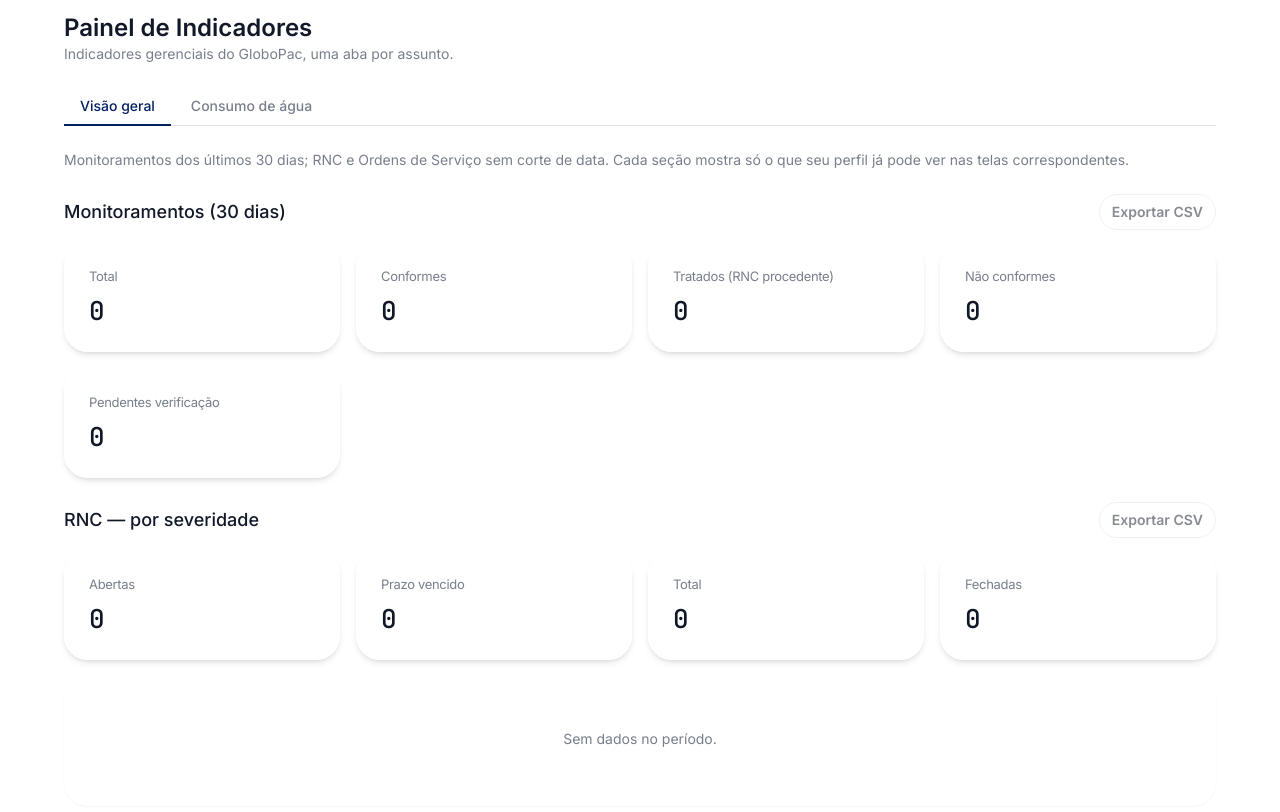
Test: Painel de Indicadores — abas › Administrador vê a aba Consumo de água e abre o conteúdo dela
Check: the heading "Painel de Indicadores" is shown, box [64, 13, 312, 42]
Check: the heading "Monitoramentos (30 dias)" is shown, box [64, 198, 286, 226]
Click the tab "Consumo de água" at (252, 107), box [175, 88, 328, 126]
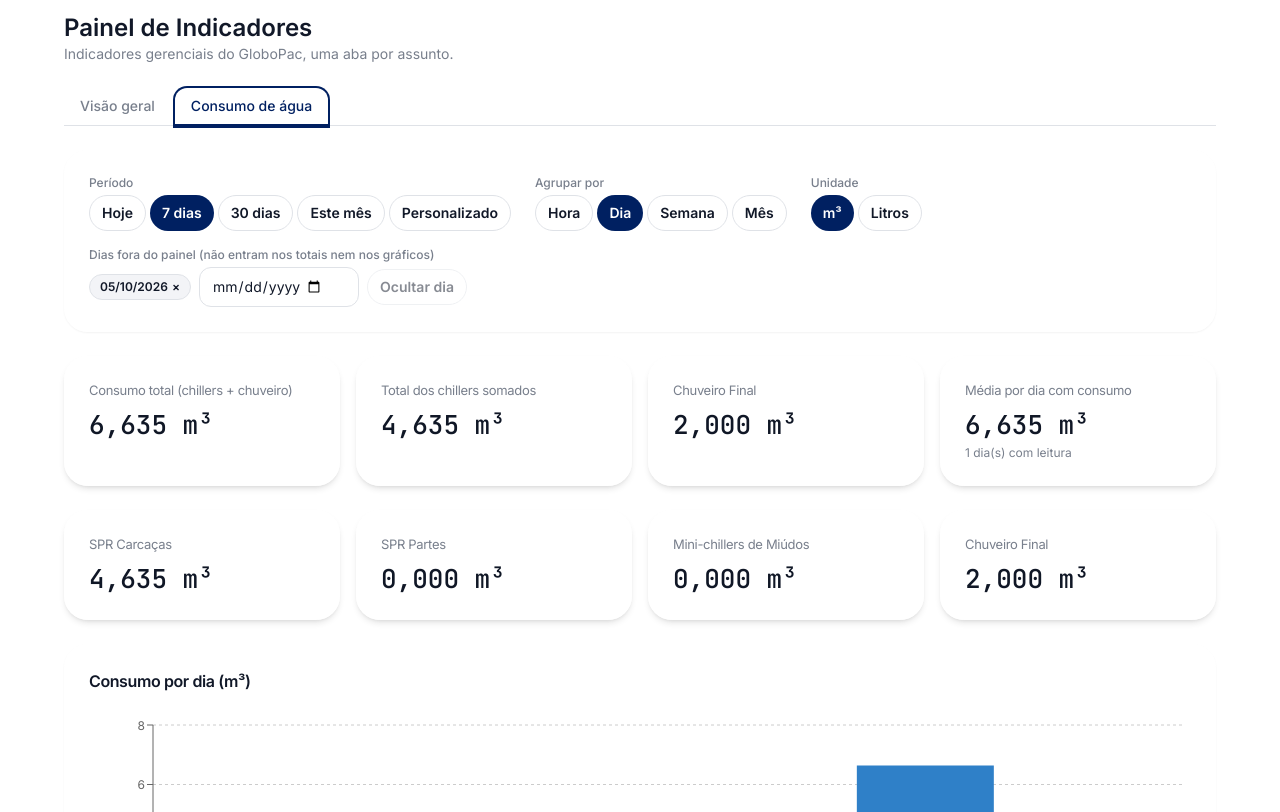
Check: the heading "Total dos chillers somados" is shown, box [381, 382, 536, 398]
Check: the heading "Monitoramentos (30 dias)" is gone
